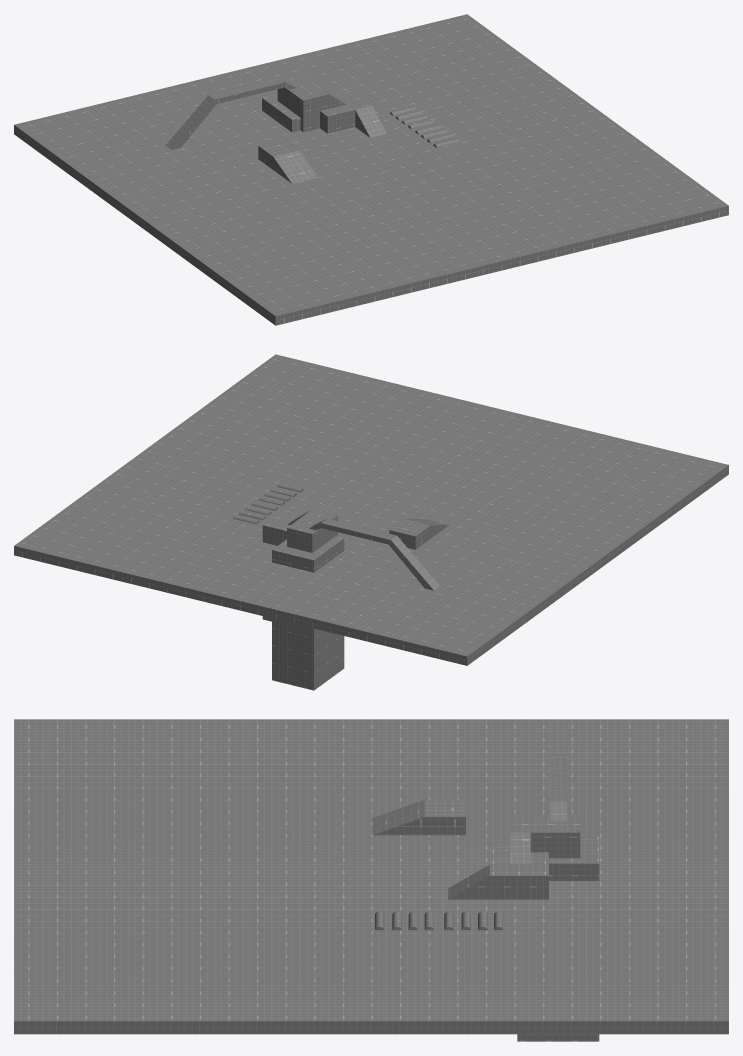
The model's file is level_test.glb.
3 views of the same model, one above another, from view 1: azimuth 30°, elevation 25°; view 2: azimuth 150°, elevation 25°; view 3: azimuth 270°, elevation 25° (orthographic). The views are drawn at different scales.
Parts seen in each view (by area): view 1: Cube, Cube.002, Cube.001, Cylinder; view 2: Cube, Cube.002, Cube.001, Cylinder; view 3: Cube, Cube.002, Cube.001, Cylinder.
Boxes of the visible parts, x1,y1,x2,y2 form: Cube: (14,14,728,325); Cube.002: (165,76,386,149); Cube.001: (258,139,317,183); Cylinder: (390,106,460,147); Cube: (14,354,728,665); Cube.002: (262,509,439,690); Cube.001: (389,518,448,549); Cylinder: (233,483,303,524); Cube: (14,719,728,1034); Cube.002: (448,755,599,1041); Cube.001: (372,799,465,835); Cylinder: (375,911,503,930).
Bounding box in the file's own units: 400 × 133 × 400.
Materials: 2 (2 with a texture image).
